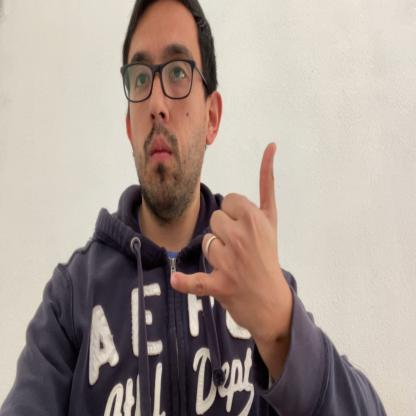Y: (170, 142, 283, 328)
